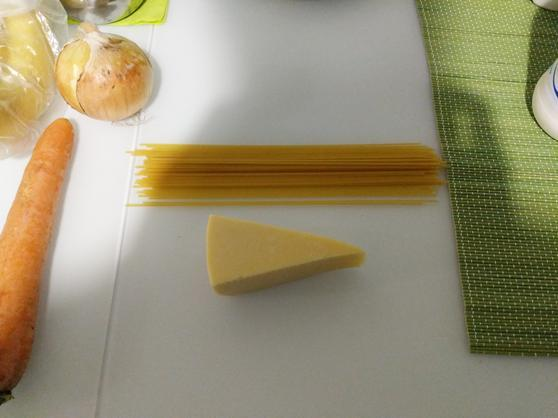carrot: (1, 104, 84, 412)
cheese: (196, 211, 376, 301)
onion: (48, 12, 163, 131)
spaghetti: (125, 134, 459, 218)
